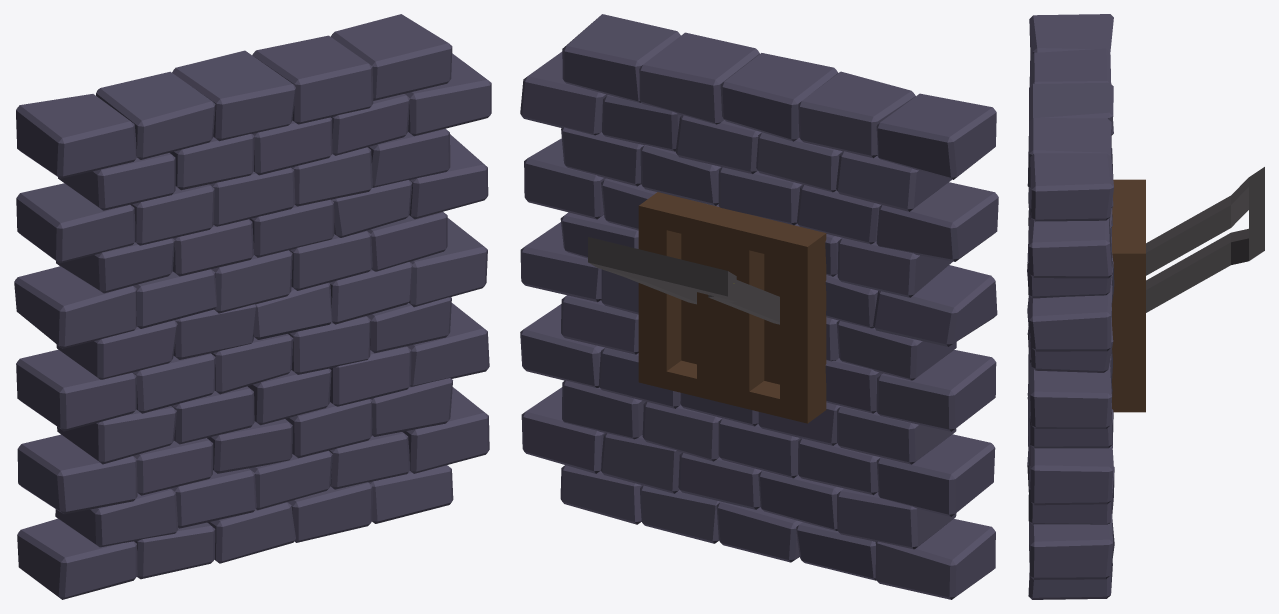
File: LeverWall.glb
3 renders of one model, left to right at view 1: azimuth 30°, elevation 25°; view 2: azimuth 150°, elevation 25°; view 3: azimuth 270°, elevation 25°, orthographic. The views are drawn at different scales.
Parts seen in each view (by area): view 1: Cube; view 2: Cube, Plane, Plane.002, Plane.001; view 3: Cube, Plane, Plane.001, Plane.002.
Boxes of the visible parts, x1,y1,x2,y2 form: Cube: (14,14,491,599); Cube: (520,14,998,599); Plane: (638,192,826,423); Plane.002: (658,254,779,324); Plane.001: (588,237,696,304); Cube: (1027,14,1114,599); Plane: (1112,179,1145,412); Plane.001: (1146,197,1264,312); Plane.002: (1146,167,1264,275).
Size of the model in its own units: 2.22 by 2.27 by 1.17.
